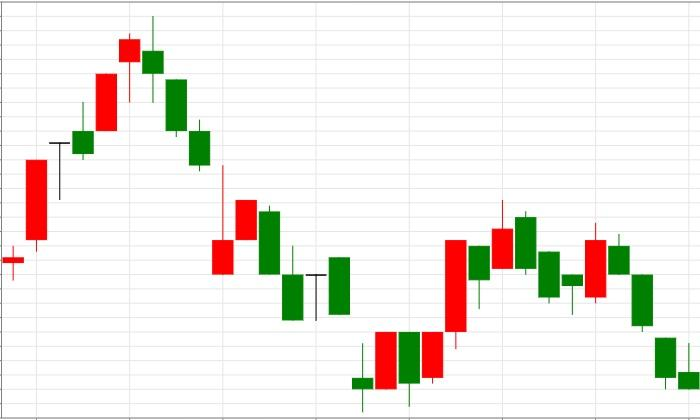three_black_crows_fall: (2, 16, 211, 280), (538, 222, 677, 389)
